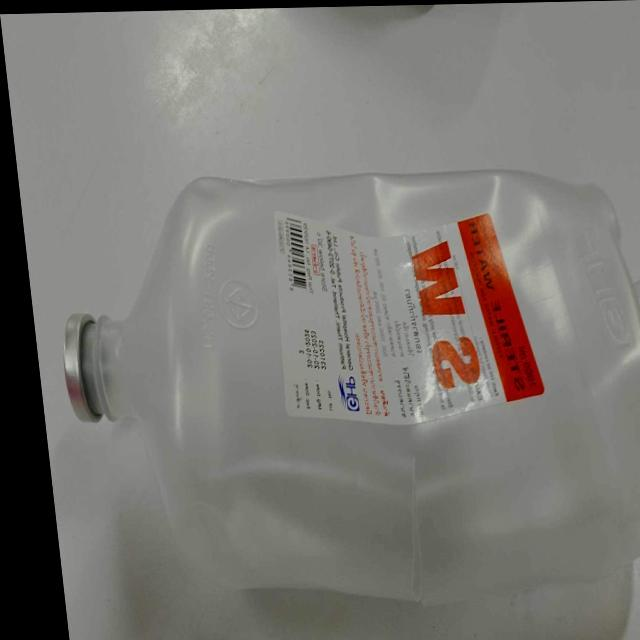Infectious: (64, 167, 640, 638)
Sharps: (272, 207, 547, 427)
